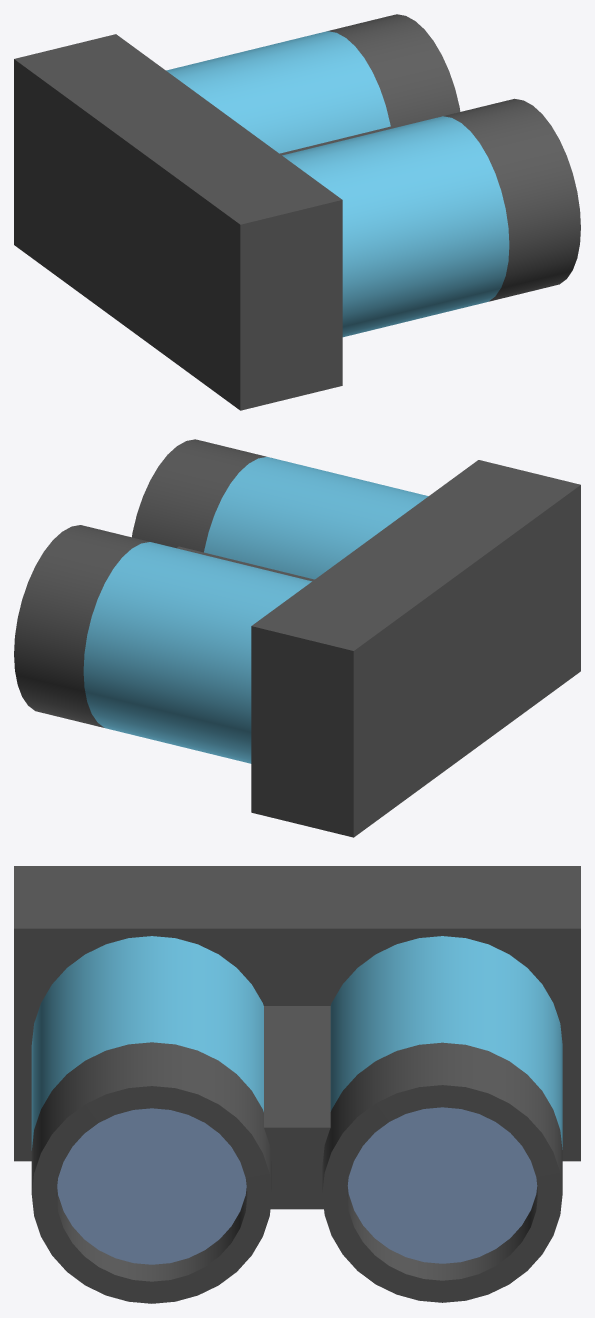
Rendered from lidar_lite_v2.dae.
3 views of the same model, one above another, from view 1: azimuth 30°, elevation 25°; view 2: azimuth 150°, elevation 25°; view 3: azimuth 270°, elevation 25° (orthographic). The views are drawn at different scales.
Parts seen in each view (by area): view 1: Cube; view 2: Cube; view 3: Cube.
Part boxes in pixels (x1,y1,x2,y2): Cube: [14, 14, 580, 410]; Cube: [14, 439, 580, 837]; Cube: [14, 866, 580, 1303].
Bounding box in the file's own units: 0.0401 × 0.0453 × 0.0205.
